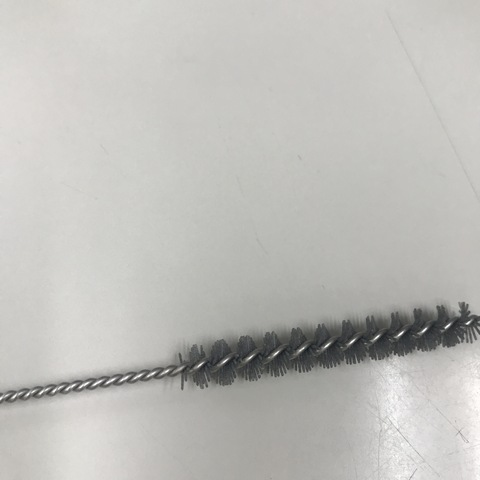Twist Brush-A: (1, 299, 480, 411)
